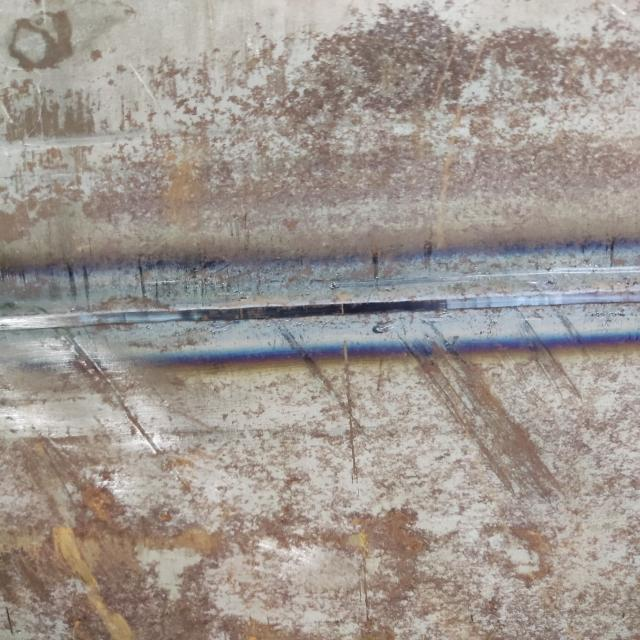seam: (0, 225, 640, 401)
